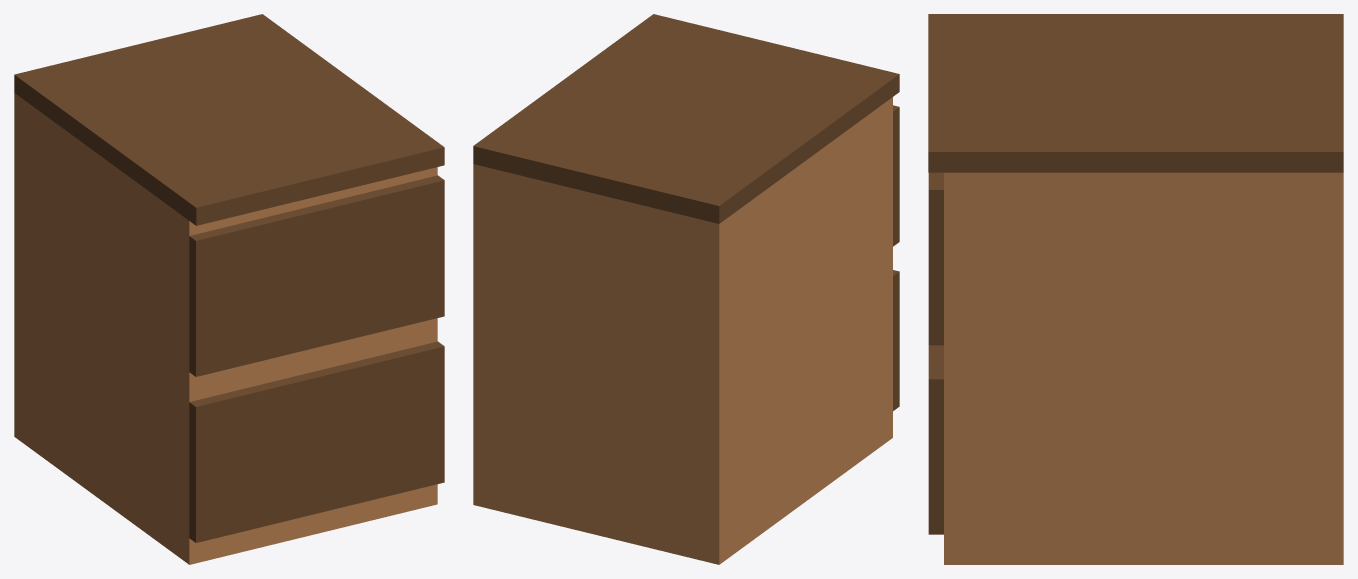
The model's file is MP_SmallDrawer_Asset.fbx.
3 views of the same model, side by side, from view 1: azimuth 30°, elevation 25°; view 2: azimuth 150°, elevation 25°; view 3: azimuth 270°, elevation 25° (orthographic). The views are drawn at different scales.
Visible parts, largest first — view 1: SmallDrawer_Base, SmallDrawer_Panel_1, Small_Drawer; view 2: SmallDrawer_Base, Small_Drawer, SmallDrawer_Panel_1; view 3: SmallDrawer_Base, Small_Drawer, SmallDrawer_Panel_1.
Part boxes in pixels (<box>): SmallDrawer_Base: <box>14,14,444,564</box>; SmallDrawer_Panel_1: <box>189,175,444,376</box>; Small_Drawer: <box>189,341,444,542</box>; SmallDrawer_Base: <box>473,14,899,564</box>; Small_Drawer: <box>893,270,899,410</box>; SmallDrawer_Panel_1: <box>893,105,899,246</box>; SmallDrawer_Base: <box>928,14,1343,564</box>; Small_Drawer: <box>928,345,943,534</box>; SmallDrawer_Panel_1: <box>928,172,943,345</box>.
Bounding box in the file's own units: 39.7 × 55.24 × 50.33.
